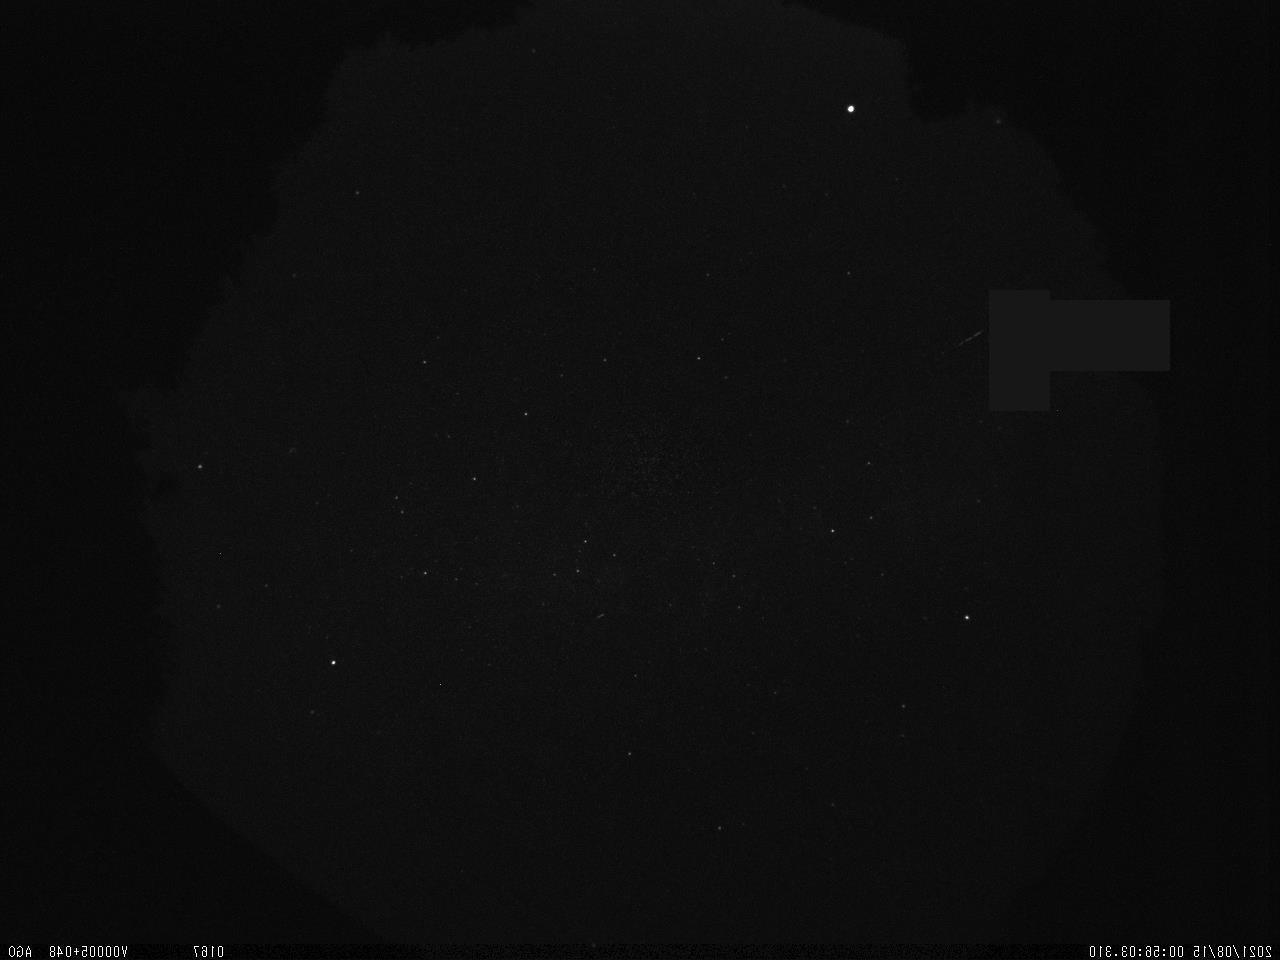meteor: (930, 321, 994, 354)
